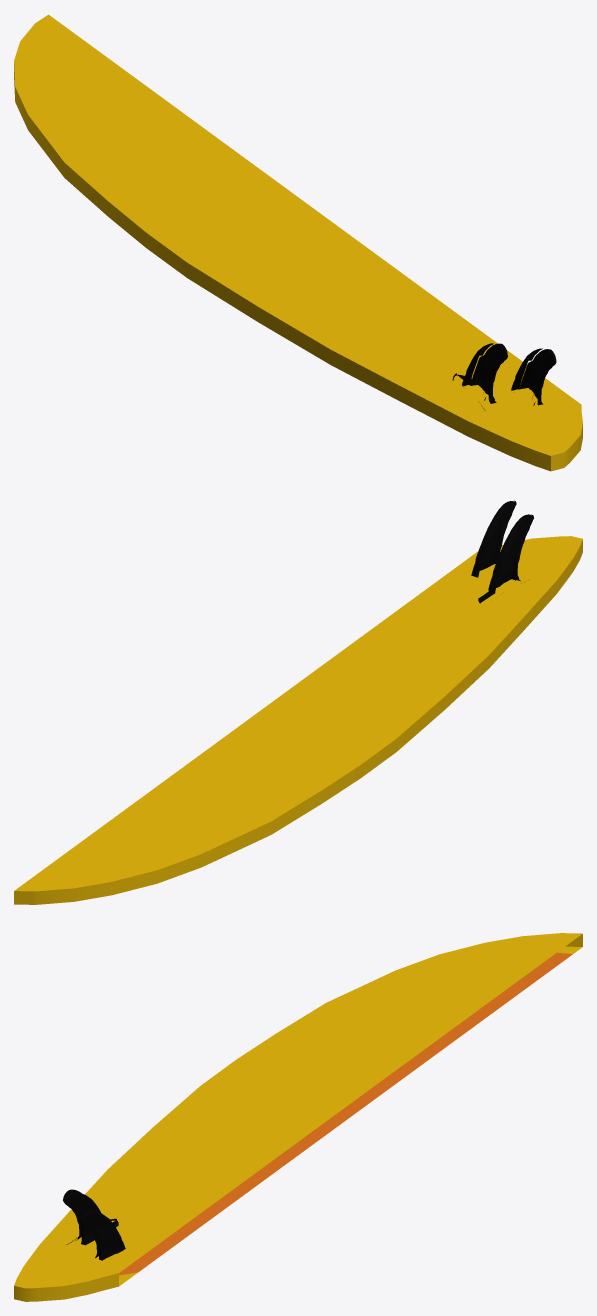
The model's file is board.glb.
3 views of the same model, one above another, from view 1: azimuth 30°, elevation 25°; view 2: azimuth 150°, elevation 25°; view 3: azimuth 330°, elevation 25° (orthographic). The views are drawn at different scales.
Visible parts, largest first — view 1: Cube; view 2: Cube; view 3: Cube.
Part boxes in pixels (box(x1,y1,x2,y2)): Cube: box(14, 14, 582, 471); Cube: box(14, 500, 582, 904); Cube: box(14, 933, 582, 1301).
Size of the model in its own units: 0.6936 by 0.3649 by 4.62.
